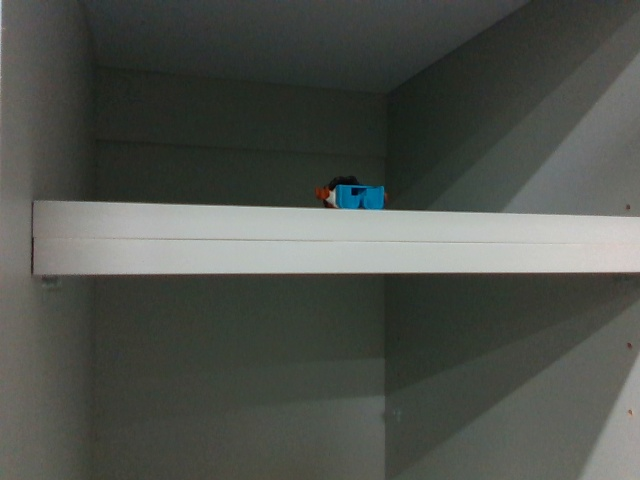people: (314, 175, 391, 214)
